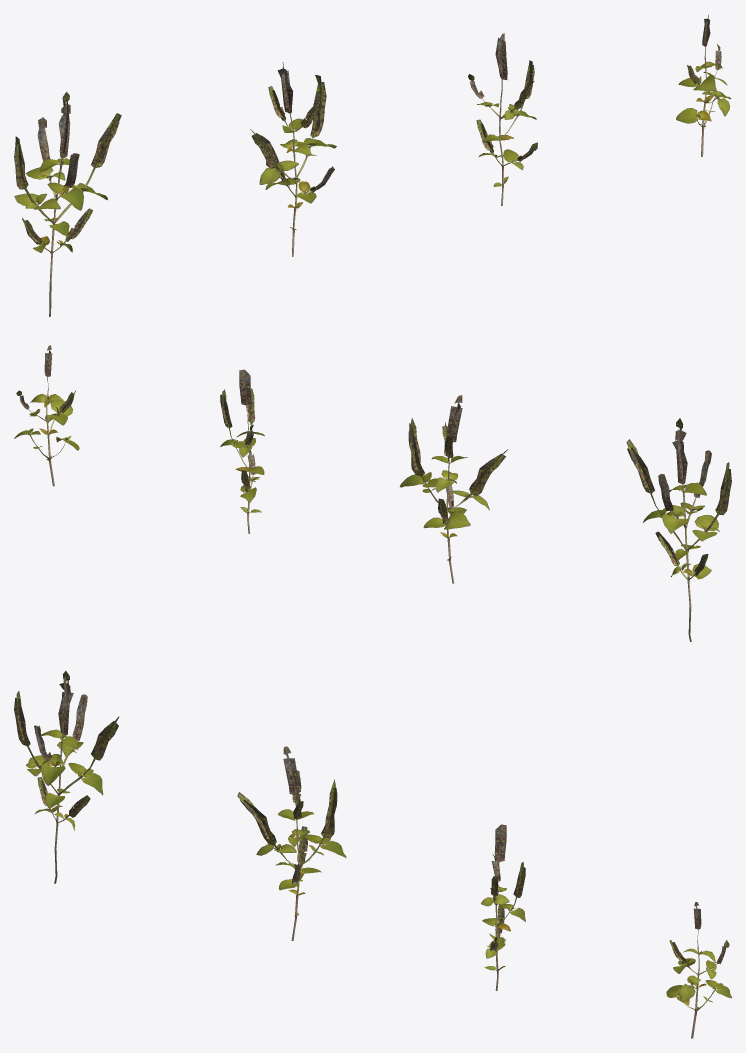
Rendered from shrub.glb.
3 views of the same model, one above another, from view 1: azimuth 30°, elevation 25°; view 2: azimuth 150°, elevation 25°; view 3: azimuth 330°, elevation 25° (orthographic). The views are drawn at different scales.
Visible parts, largest first — view 1: shrub_03_a; view 2: shrub_03_a; view 3: shrub_03_a.
Boxes of the visible parts, box(x1,y1,x2,y2) form: shrub_03_a: box(14, 15, 731, 316); shrub_03_a: box(14, 345, 731, 641); shrub_03_a: box(14, 671, 731, 1038).
Size of the model in its own units: 1.37 by 0.4029 by 0.1512.
1 material, 1 textured.
